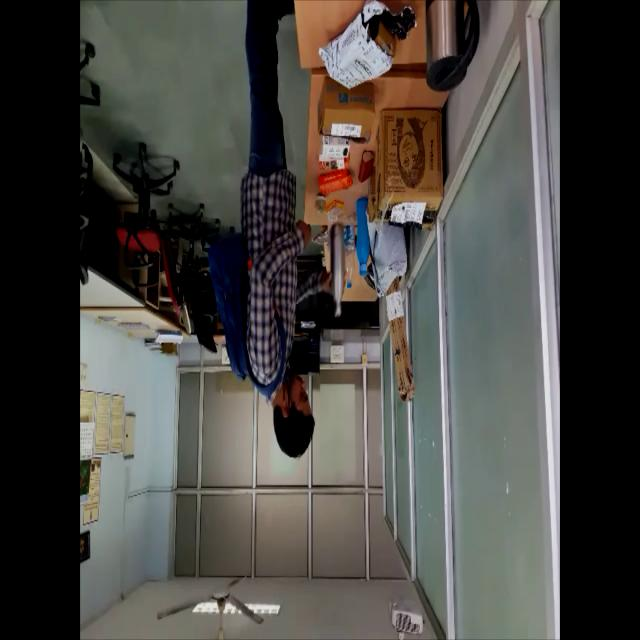normal: (204, 0, 346, 463)
